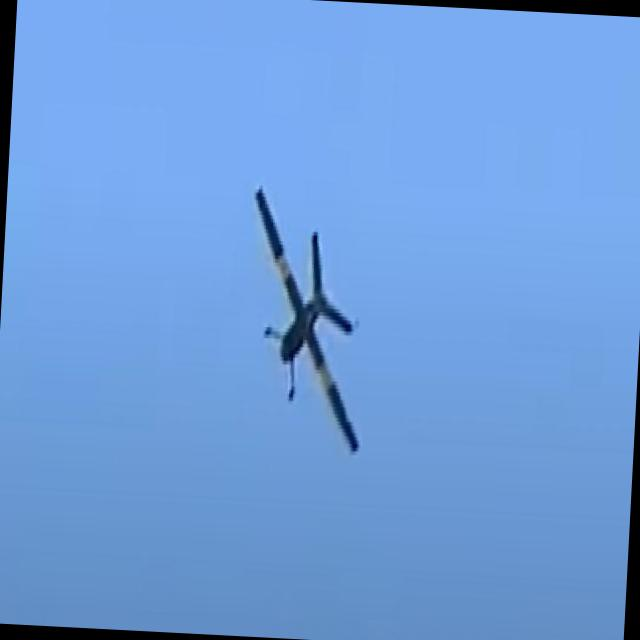UAV: (210, 168, 381, 455)
